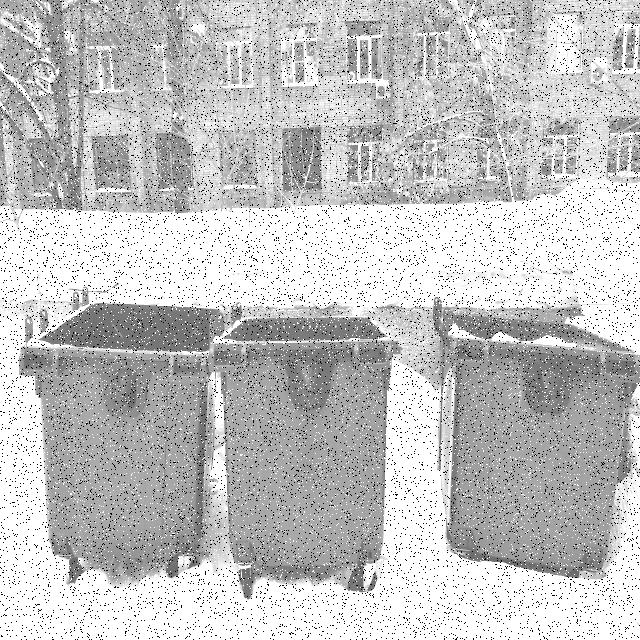Trashcan: (8, 239, 230, 588), (411, 264, 640, 602), (202, 248, 408, 606)
